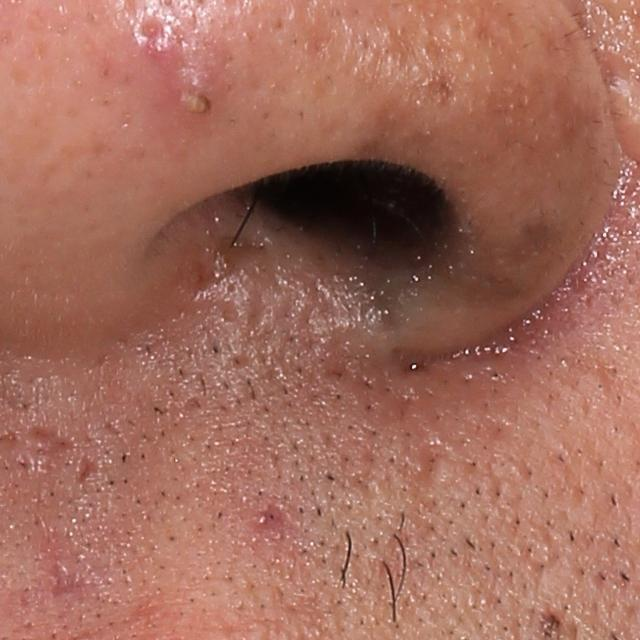atrophic_scar: (373, 444, 464, 601), (37, 562, 112, 615), (248, 490, 304, 539), (28, 427, 74, 485), (218, 350, 286, 385), (151, 393, 216, 429), (75, 449, 99, 488)
nevus: (540, 608, 567, 635)
pustule: (169, 67, 222, 124)
